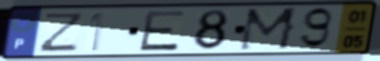1: (87, 12, 106, 52)
8: (189, 8, 228, 52)
9: (296, 6, 336, 51)
E: (136, 9, 188, 53)
M: (236, 6, 302, 53)
Z: (36, 11, 88, 53)
